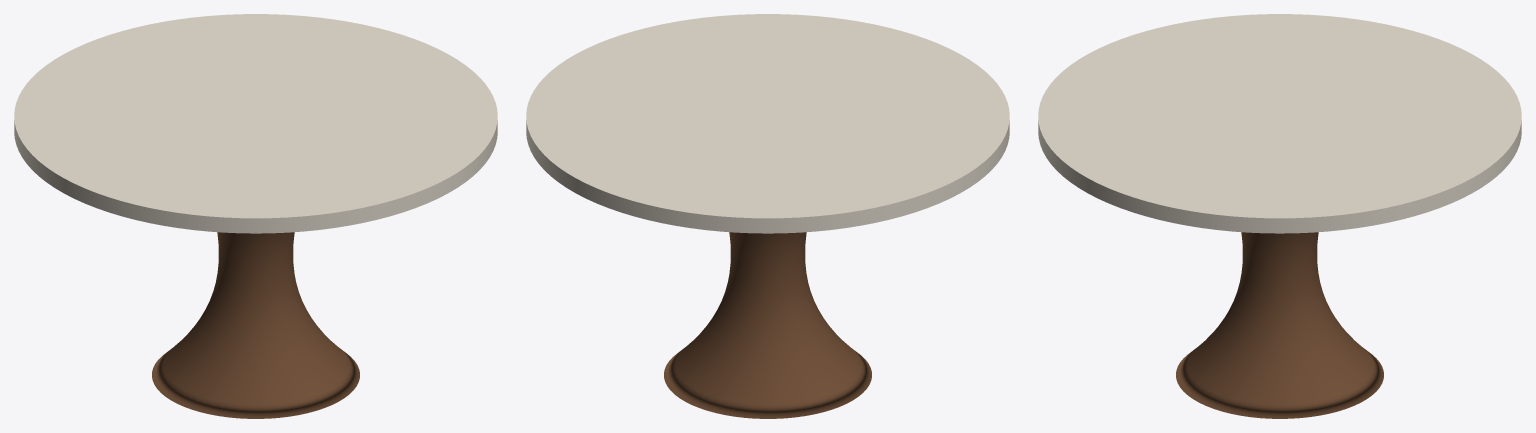
The model's file is mono-table.glb.
3 renders of one model, left to right at view 1: azimuth 30°, elevation 25°; view 2: azimuth 150°, elevation 25°; view 3: azimuth 270°, elevation 25°, orthographic.
Parts seen in each view (by area): view 1: top, pedestal; view 2: top, pedestal; view 3: top, pedestal.
Part boxes in pixels (x1,y1,x2,y2): top: [14, 14, 497, 233]; pedestal: [152, 232, 359, 418]; top: [526, 14, 1009, 233]; pedestal: [664, 232, 871, 418]; top: [1038, 14, 1521, 233]; pedestal: [1176, 232, 1383, 418].
Size of the model in its own units: 1.3 by 0.7675 by 1.3.
